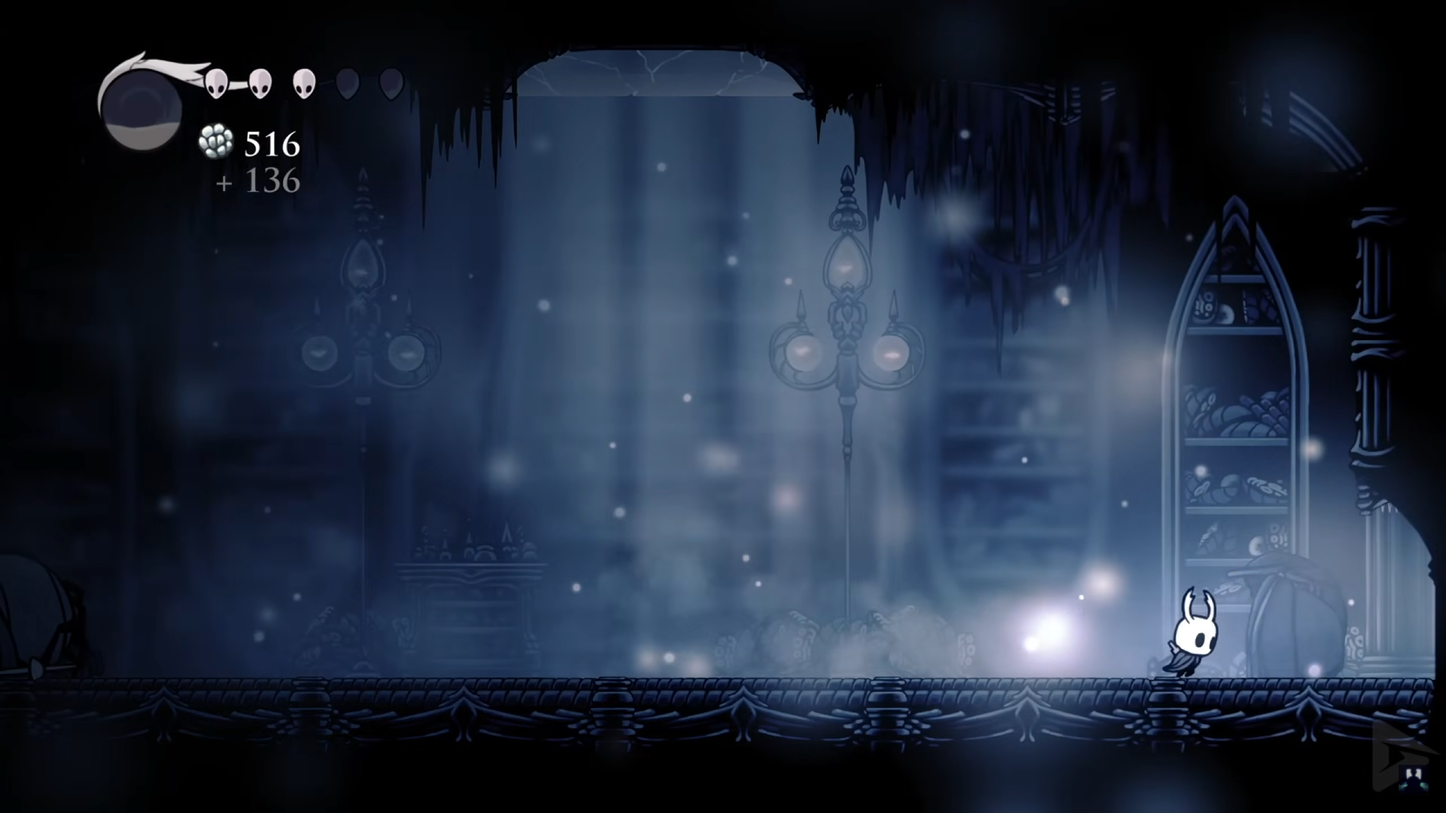HK: (1160, 588, 1222, 681)
